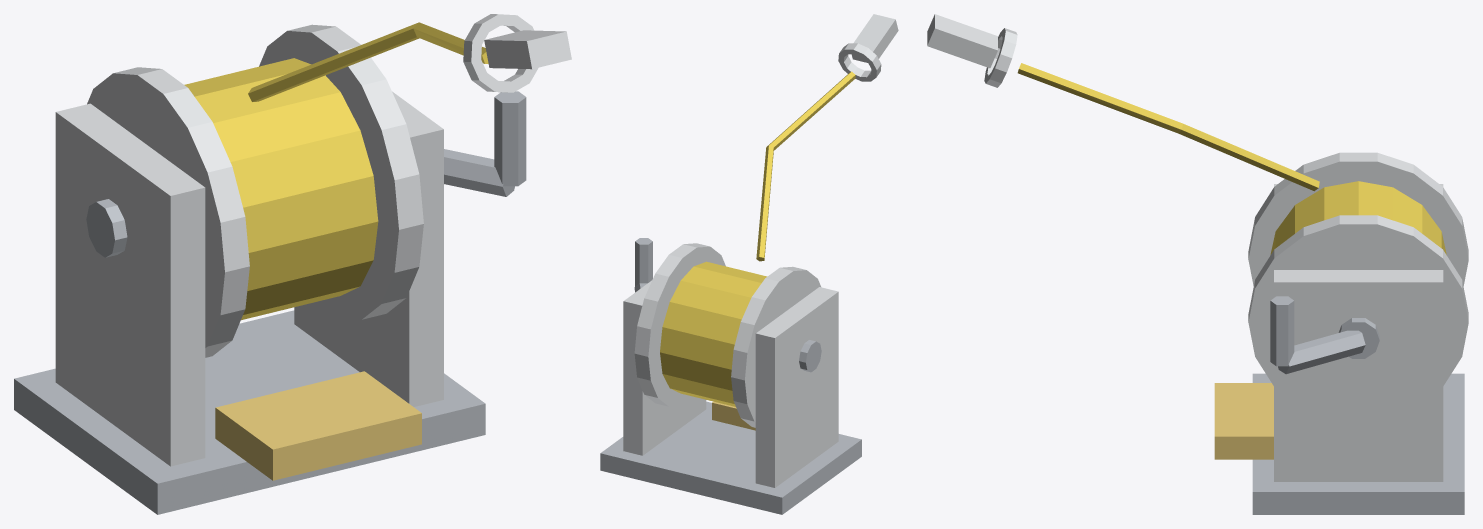
Rendered from orbital-station-and-docking-bays-tether-reel-428be50e__24564.glb.
3 views of the same model, side by side, from view 1: azimuth 30°, elevation 25°; view 2: azimuth 150°, elevation 25°; view 3: azimuth 270°, elevation 25° (orthographic). The views are drawn at different scales.
Visible parts, largest first — view 1: tether-reel, reel-drum (×3); view 2: tether-reel, reel-drum (×3); view 3: tether-reel, reel-drum (×3).
Part boxes in pixels (x1,y1,x2,y2): tether-reel: (14,14,571,514); reel-drum (×3): (86,24,423,357); tether-reel: (600,14,898,514); reel-drum (×3): (634,243,821,427); tether-reel: (927,14,1464,514); reel-drum (×3): (1248,152,1468,385).
Bounding box in the file's own units: 0.775 × 1.14 × 1.28.
